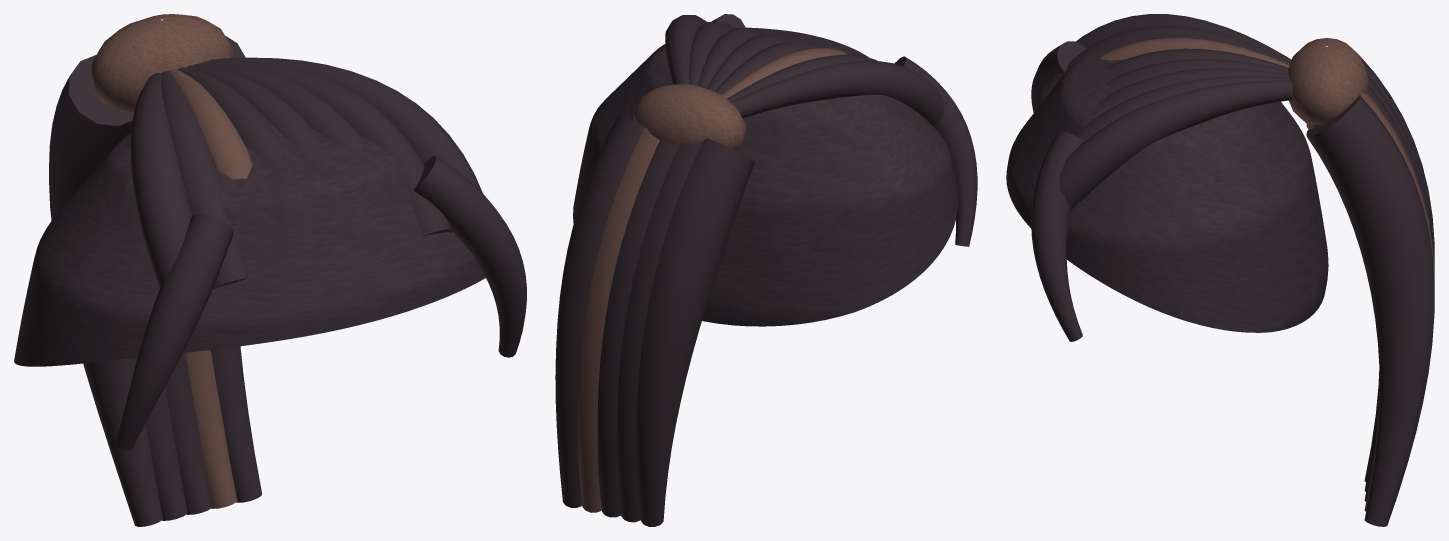
The model's file is hair_ponytail_long.gltf.
3 renders of one model, left to right at view 1: azimuth 30°, elevation 25°; view 2: azimuth 150°, elevation 25°; view 3: azimuth 270°, elevation 25°, orthographic. The views are drawn at different scales.
Visible parts, largest first — view 1: High Ponytail long; view 2: High Ponytail long; view 3: High Ponytail long.
Boxes of the visible parts, bbox=[...] form: High Ponytail long: bbox=[14, 14, 526, 526]; High Ponytail long: bbox=[555, 14, 977, 526]; High Ponytail long: bbox=[1006, 14, 1434, 526].
Size of the model in its own units: 0.4685 by 0.5336 by 0.4786.
2 materials, 2 textured.
